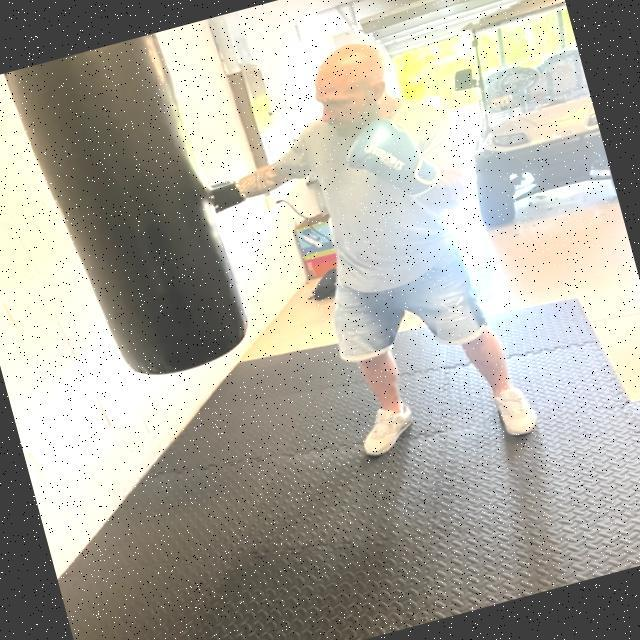hook: (133, 10, 473, 278)
